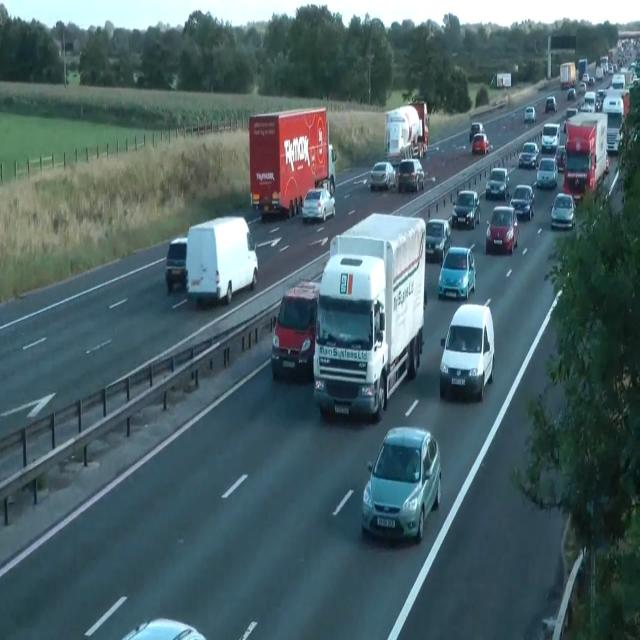bus: (361, 426, 441, 543), (438, 246, 476, 300), (121, 617, 206, 639), (424, 219, 452, 262), (301, 188, 335, 222), (452, 190, 481, 228), (541, 600, 573, 632), (396, 158, 424, 193), (550, 192, 576, 229), (509, 184, 535, 220), (485, 167, 509, 200), (369, 161, 395, 191), (536, 156, 558, 188), (518, 141, 539, 168), (606, 127, 620, 154), (472, 132, 489, 154), (554, 144, 566, 172), (563, 108, 577, 132), (469, 122, 483, 142), (595, 89, 607, 111), (545, 95, 557, 112), (524, 106, 536, 122), (582, 72, 594, 84), (566, 108, 578, 120), (604, 151, 610, 173), (566, 87, 576, 100), (578, 82, 586, 93)
jeep: (439, 299, 495, 401), (270, 280, 320, 381), (486, 204, 518, 254), (165, 236, 187, 292), (540, 122, 560, 152)
minibus: (313, 212, 427, 420), (249, 106, 335, 220), (186, 215, 258, 306), (562, 112, 608, 203), (384, 105, 420, 164), (602, 89, 628, 154), (407, 100, 429, 158), (313, 143, 337, 196), (560, 61, 576, 89), (489, 72, 512, 89), (578, 58, 588, 80)
